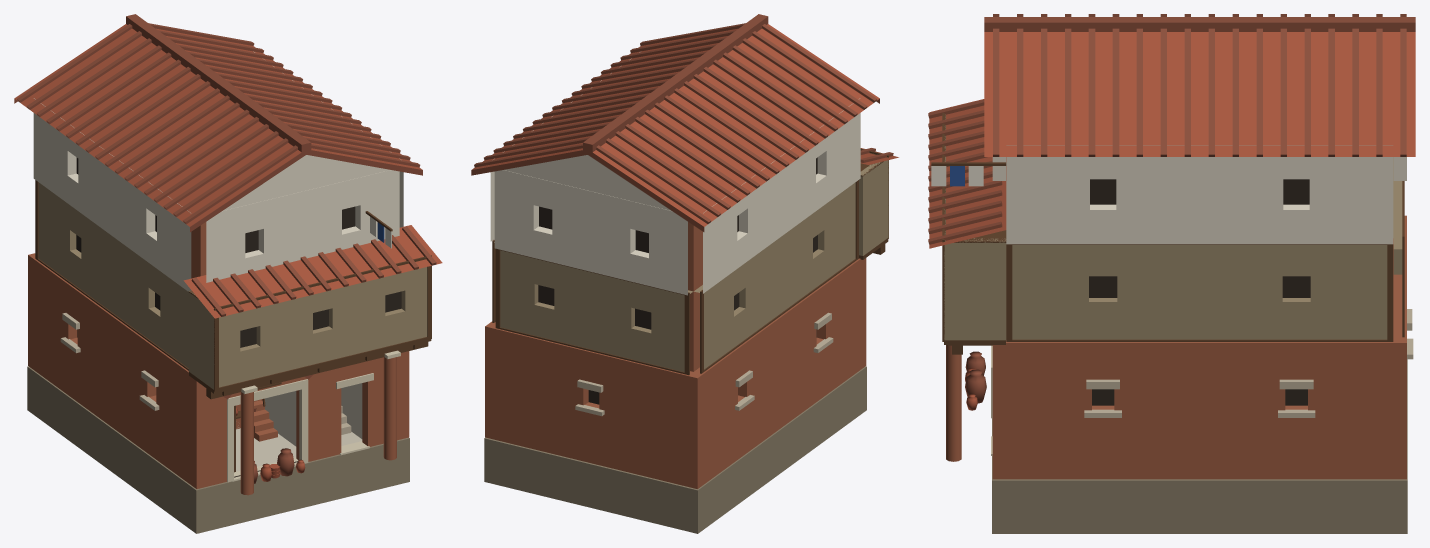
The model's file is rome_insula_g.glb.
3 renders of one model, left to right at view 1: azimuth 30°, elevation 25°; view 2: azimuth 150°, elevation 25°; view 3: azimuth 270°, elevation 25°, orthographic. The views are drawn at different scales.
Parts seen in each view (by area): view 1: rome_insula_g; view 2: rome_insula_g; view 3: rome_insula_g.
Boxes of the visible parts, x1=… form: rome_insula_g: x1=14, y1=14, x2=442, y2=533; rome_insula_g: x1=471, y1=14, x2=898, y2=533; rome_insula_g: x1=928, y1=14, x2=1415, y2=533.
Size of the model in its own units: 8.87 by 13.22 by 12.96.
